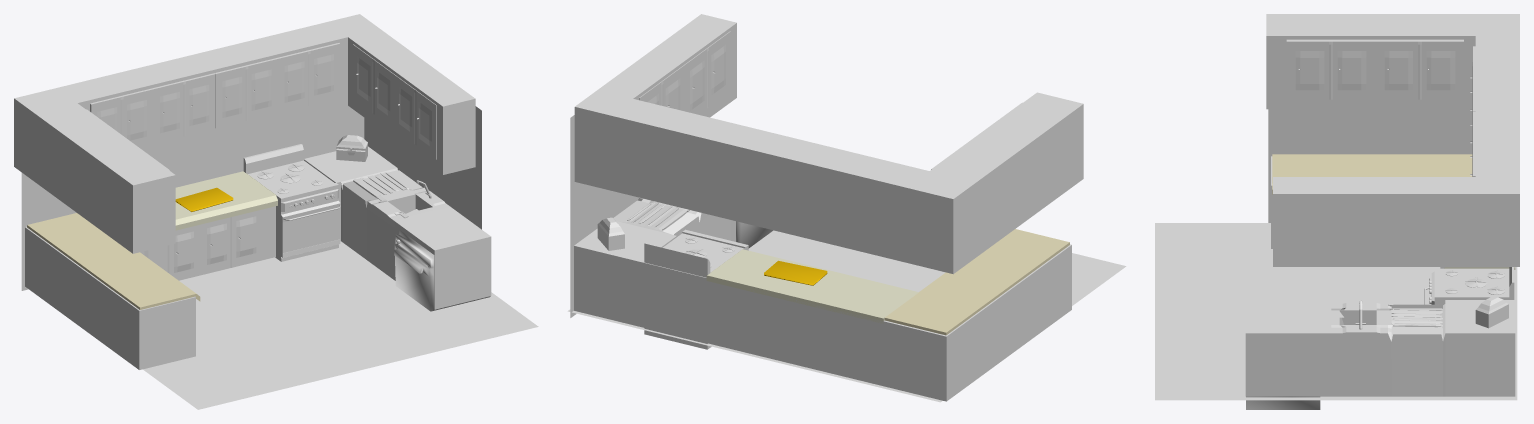
Rendered from mordenkitchen.glb.
3 renders of one model, left to right at view 1: azimuth 30°, elevation 25°; view 2: azimuth 150°, elevation 25°; view 3: azimuth 270°, elevation 25°, orthographic. The views are drawn at different scales.
Parts seen in each view (by area): view 1: Cube.010, Floor, GasOta, Plane.001, Machine, FTCab2, cabinate_top, FTCab, FrontCabinate, Cube.013, Cabinate_top, Utility (+2 smaller); view 2: Cube.010, GasOta, cabinate_top, Floor, Cabinate_top, Cube.013, Machine, Plane.001, cloath, Peti Box, Utility; view 3: Cube.010, Floor, GasOta, TopLeftCabinate, Plane.001, cabinate_top, Machine, Utility, Peti Box.
Boxes of the visible parts, x1=… form: Cube.010: x1=14, y1=14, x2=475, y2=253; Floor: x1=143, y1=241, x2=538, y2=409; GasOta: x1=25, y1=146, x2=491, y2=369; Plane.001: x1=21, y1=105, x2=481, y2=290; Machine: x1=243, y1=142, x2=340, y2=261; FTCab2: x1=215, y1=43, x2=340, y2=128; cabinate_top: x1=27, y1=213, x2=200, y2=309; FTCab: x1=90, y1=73, x2=215, y2=146; FrontCabinate: x1=140, y1=209, x2=262, y2=280; Cube.013: x1=353, y1=44, x2=436, y2=159; Cabinate_top: x1=175, y1=171, x2=277, y2=230; Utility: x1=394, y1=230, x2=490, y2=311; Cube.010: x1=574, y1=14, x2=1083, y2=274; GasOta: x1=574, y1=197, x2=1071, y2=401; cabinate_top: x1=884, y1=229, x2=1069, y2=335; Floor: x1=567, y1=230, x2=1126, y2=402; Cabinate_top: x1=706, y1=249, x2=918, y2=323; Cube.013: x1=639, y1=31, x2=730, y2=114; Machine: x1=644, y1=229, x2=748, y2=349; Plane.001: x1=570, y1=115, x2=638, y2=317; cloath: x1=764, y1=260, x2=827, y2=285; Peti Box: x1=597, y1=217, x2=624, y2=250; Utility: x1=736, y1=221, x2=773, y2=248; Cube.010: x1=1266, y1=14, x2=1519, y2=266; Floor: x1=1155, y1=223, x2=1517, y2=400; GasOta: x1=1245, y1=156, x2=1515, y2=396; TopLeftCabinate: x1=1286, y1=39, x2=1463, y2=99; Plane.001: x1=1268, y1=109, x2=1472, y2=222; cabinate_top: x1=1272, y1=154, x2=1472, y2=194; Machine: x1=1424, y1=267, x2=1514, y2=305; Utility: x1=1246, y1=396, x2=1320, y2=409; Peti Box: x1=1475, y1=296, x2=1508, y2=328.
Size of the model in its own units: 12.48 by 6.79 by 10.45.
